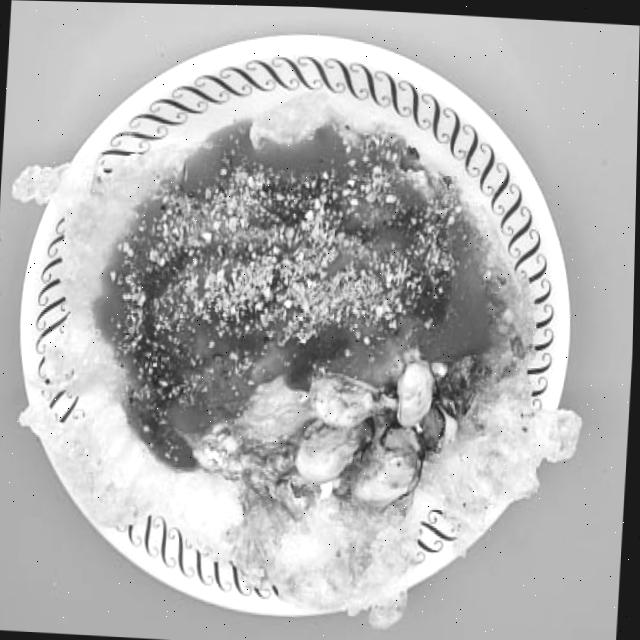熟制海鲜: (0, 22, 602, 630)
